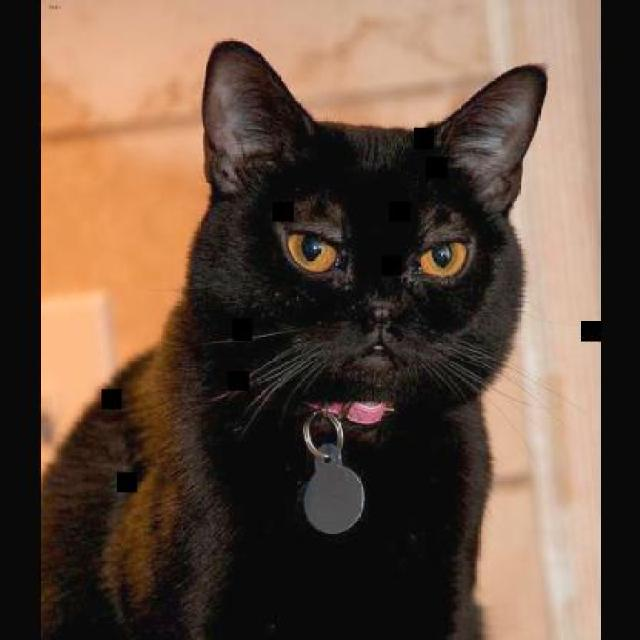unauthorized: (39, 37, 558, 638)
